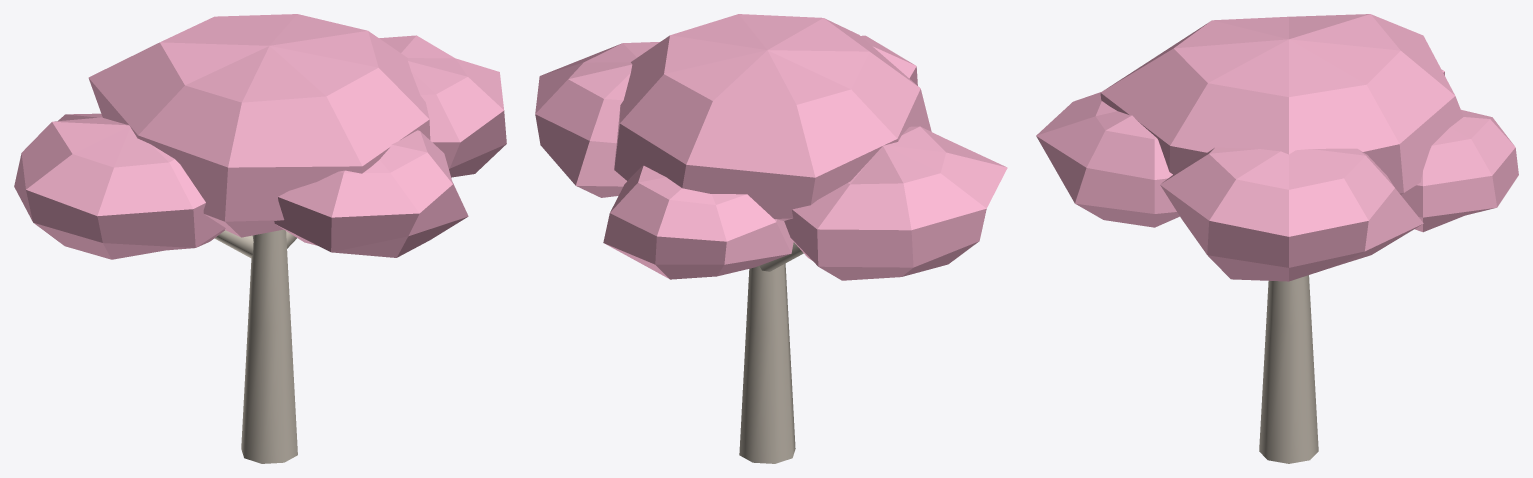
Rendered from tree_blossom.glb.
3 renders of one model, left to right at view 1: azimuth 30°, elevation 25°; view 2: azimuth 150°, elevation 25°; view 3: azimuth 270°, elevation 25°, orthographic. The views are drawn at different scales.
Parts seen in each view (by area): view 1: tree_blossom_m; view 2: tree_blossom_m; view 3: tree_blossom_m.
Part boxes in pixels (x1,y1,x2,y2): tree_blossom_m: (14,14,506,463); tree_blossom_m: (535,14,1007,463); tree_blossom_m: (1036,14,1518,463).
Bounding box in the file's own units: 7.27 × 6.1 × 6.48.
